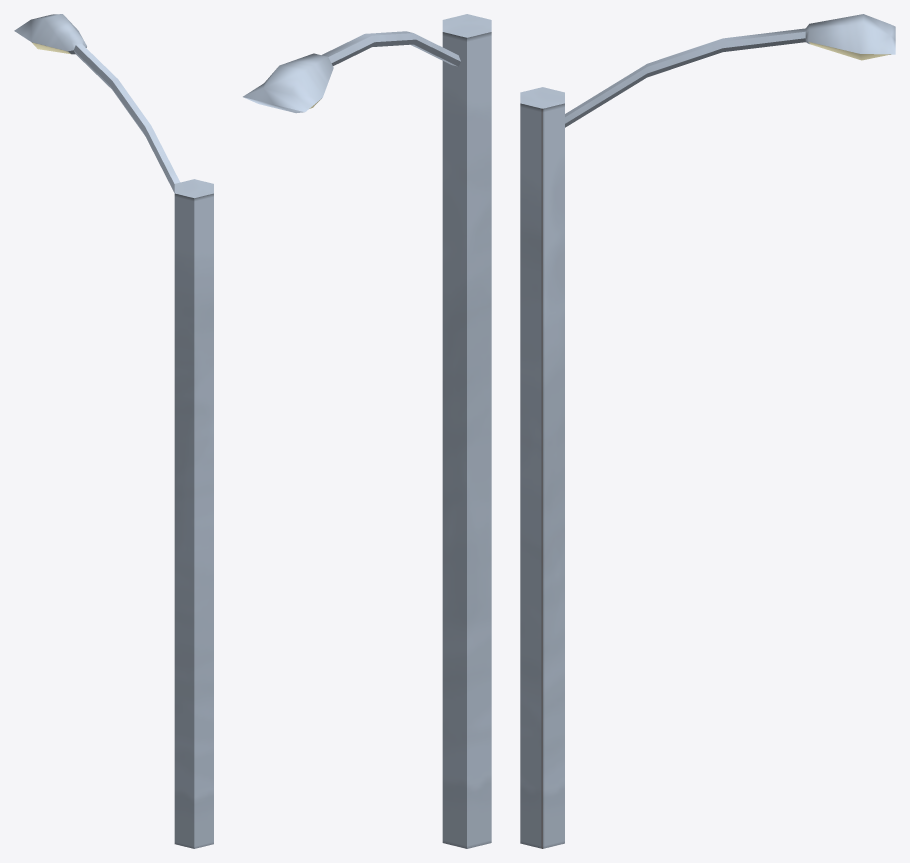
File: Lantern.FBX
The picture shows the model from 3 angles, left to right: view 1: azimuth 30°, elevation 25°; view 2: azimuth 150°, elevation 25°; view 3: azimuth 270°, elevation 25°; orthographic projection. The views are drawn at different scales.
Parts seen in each view (by area): view 1: Lantern; view 2: Lantern; view 3: Lantern.
Part boxes in pixels (x1=…): Lantern: x1=14, y1=14, x2=213, y2=848; Lantern: x1=243, y1=14, x2=491, y2=848; Lantern: x1=520, y1=14, x2=895, y2=848.
Bounding box in the file's own units: 2.8 × 38.22 × 15.88.
